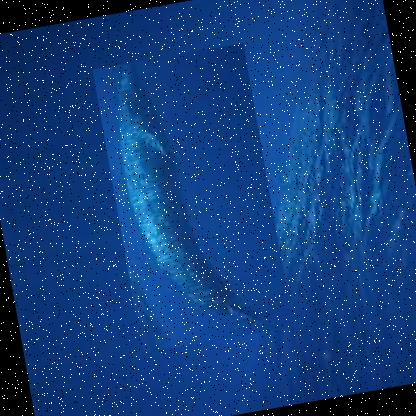blue_whale: (90, 42, 292, 353)
